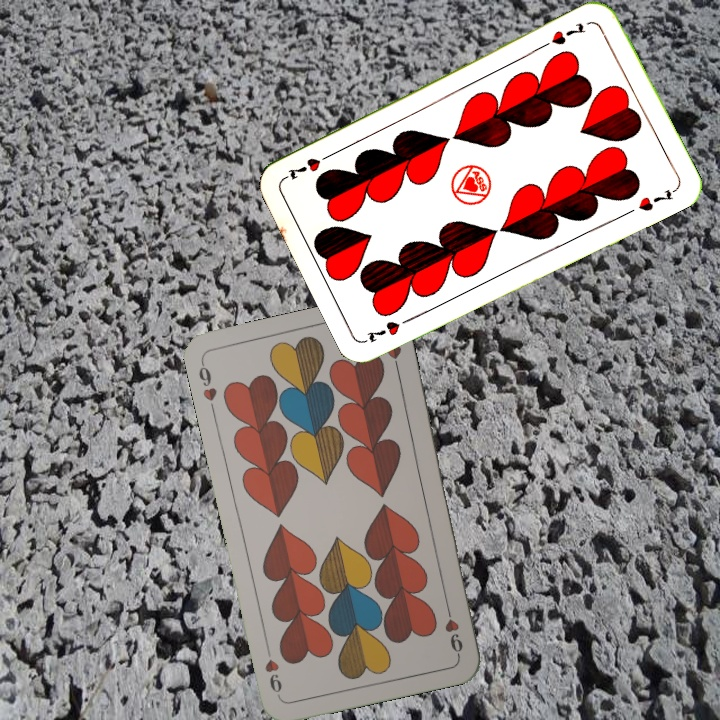H7: (362, 312, 418, 346), (539, 18, 589, 50)
H9: (194, 357, 220, 416), (441, 600, 466, 658)
